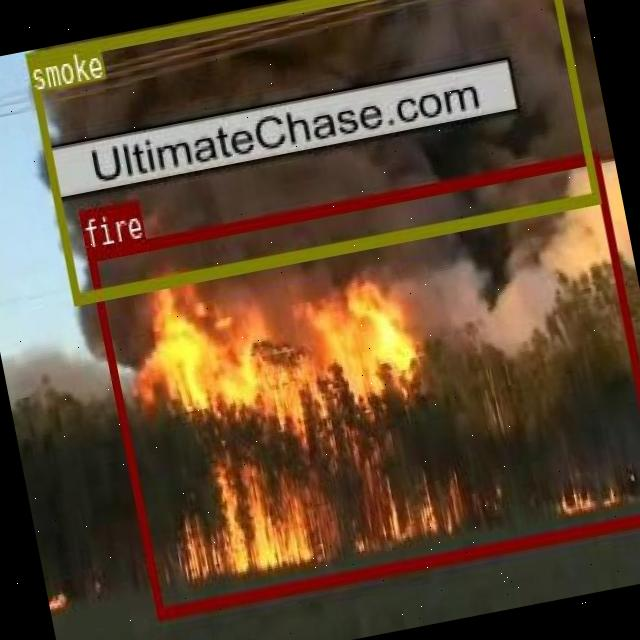fire: (86, 151, 640, 618)
smoke: (23, 0, 599, 304)
